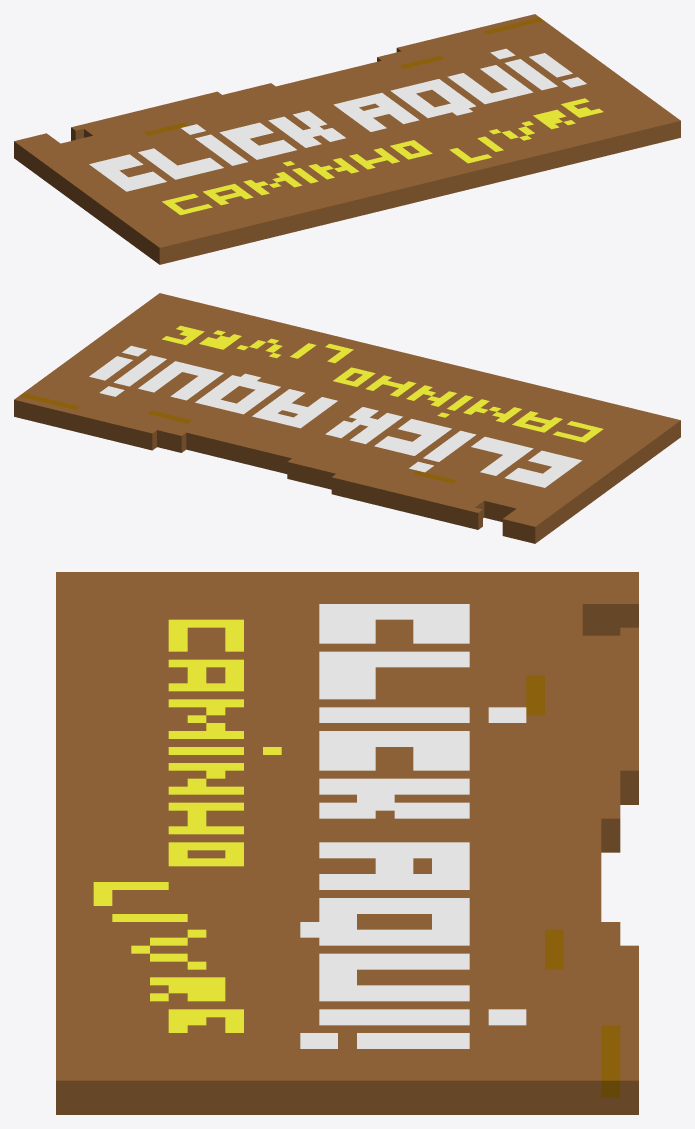
Rendered from Placa_07.fbx.
3 views of the same model, one above another, from view 1: azimuth 30°, elevation 25°; view 2: azimuth 150°, elevation 25°; view 3: azimuth 270°, elevation 25° (orthographic). The views are drawn at different scales.
Parts seen in each view (by area): view 1: imagetostl_mesh0; view 2: imagetostl_mesh0; view 3: imagetostl_mesh0.
Boxes of the visible parts, <box> form: imagetostl_mesh0: <box>14,14,680,264</box>; imagetostl_mesh0: <box>14,293,680,543</box>; imagetostl_mesh0: <box>56,572,638,1114</box>.
Size of the model in its own units: 10000 by 313 by 4844.
